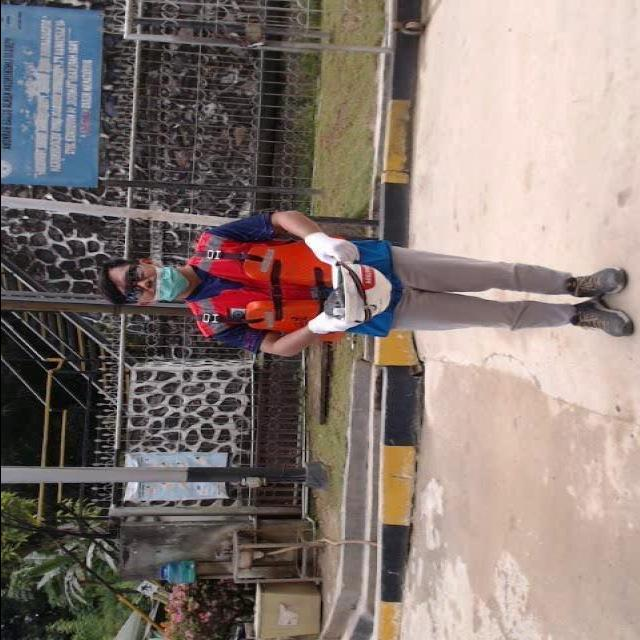helmet: (310, 260, 392, 328)
jacket: (186, 227, 348, 342)
